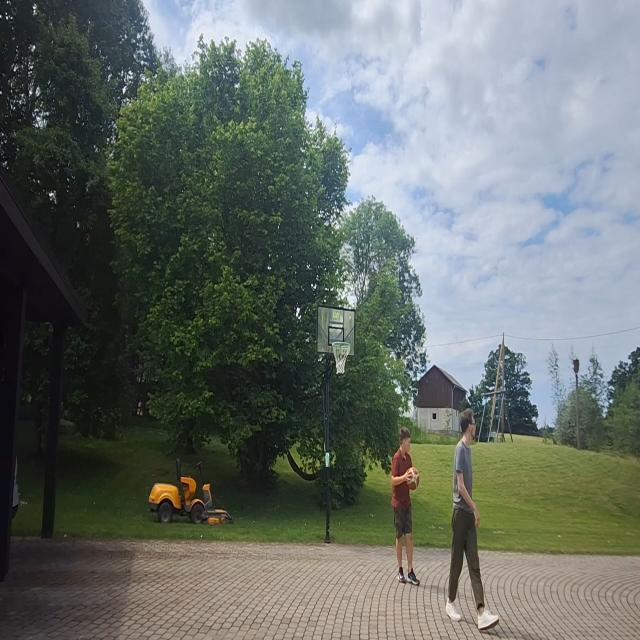ball: (405, 467, 421, 491)
basket: (332, 339, 350, 374)
player: (446, 406, 501, 630), (390, 424, 421, 589)
